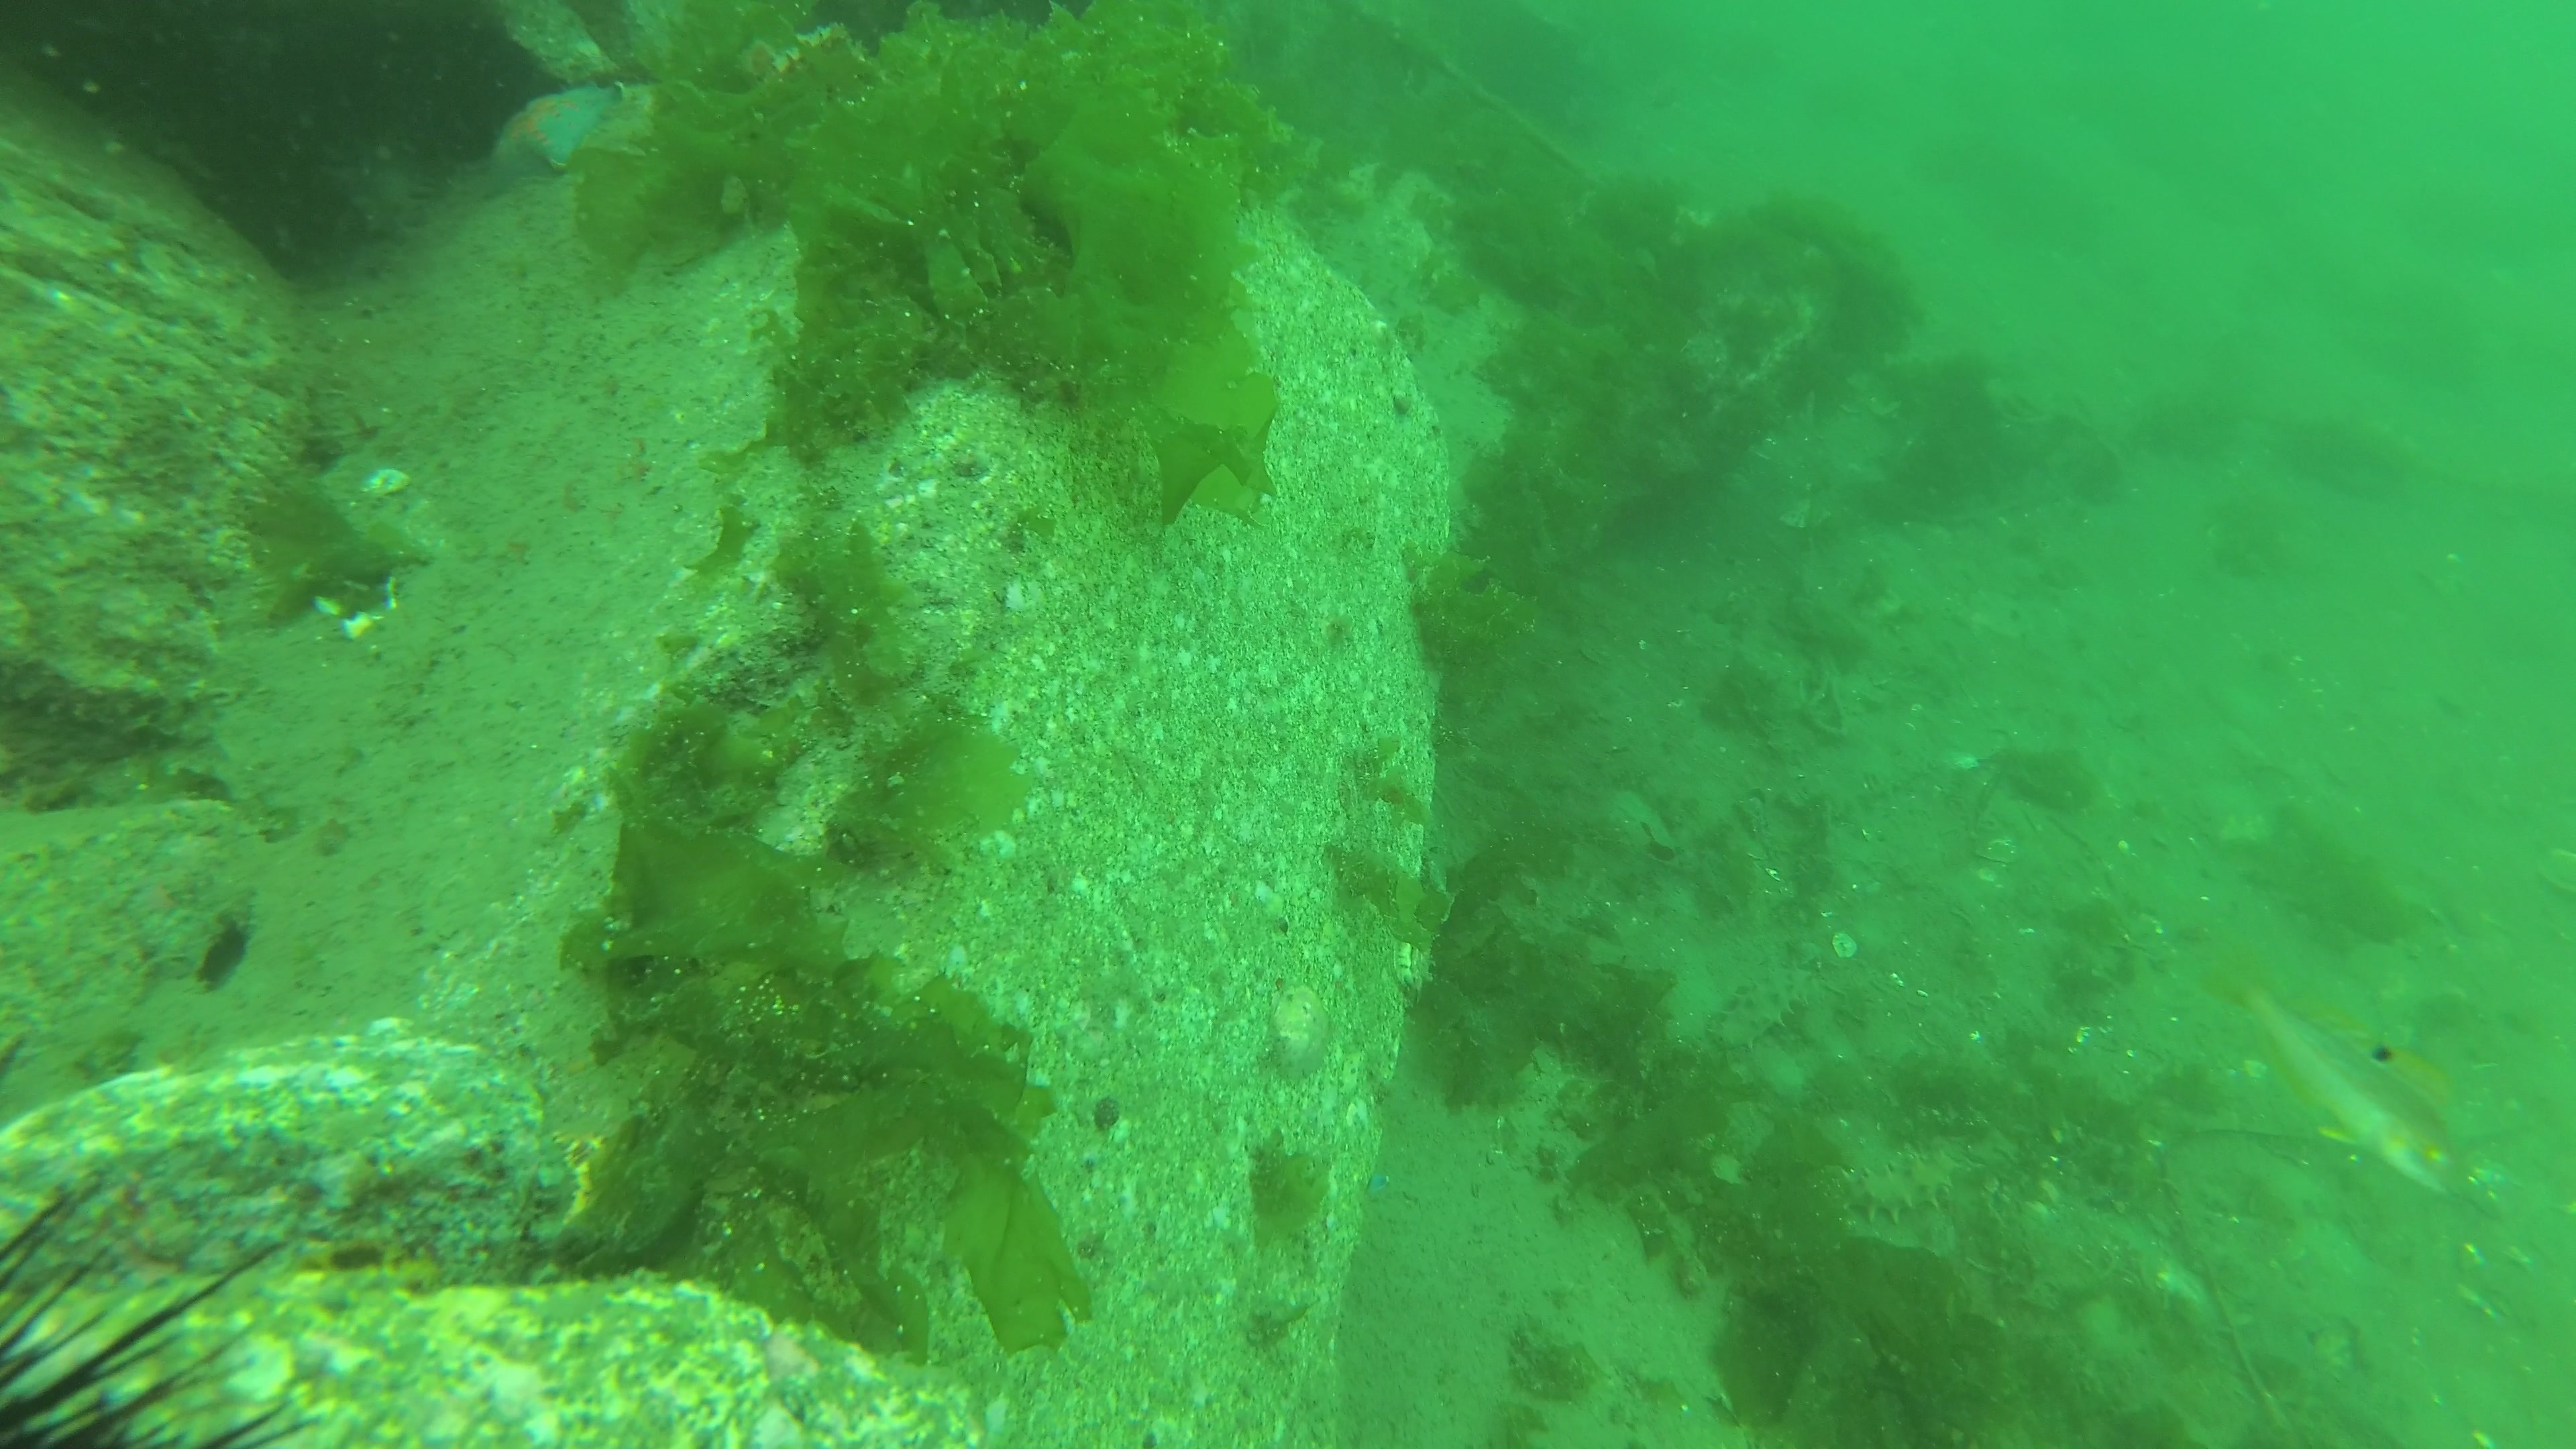echinus: (2, 1155, 303, 1449)
holothurian: (1713, 962, 1821, 1060), (1849, 1146, 1966, 1230)
starfish: (492, 80, 630, 179)
